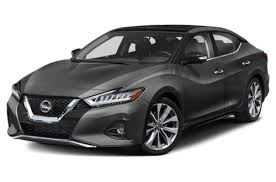Nissan: (7, 31, 261, 142)
